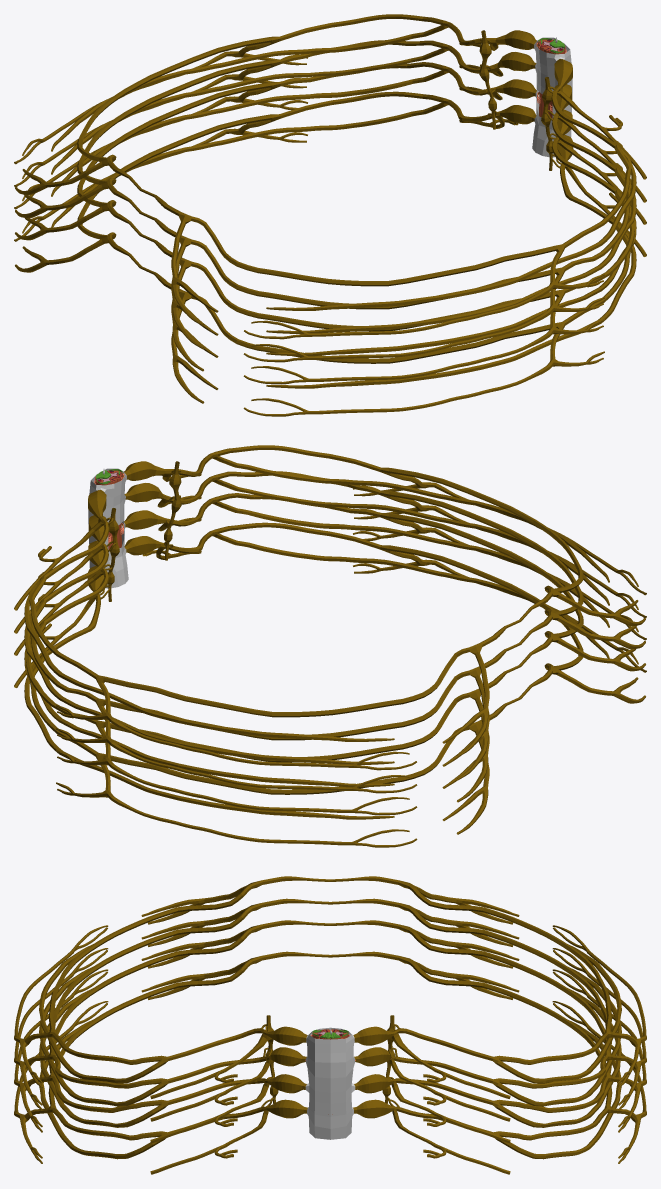
Rendered from Spinile_Cord_Low_Poly.obj.
3 renders of one model, top to bottom at view 1: azimuth 30°, elevation 25°; view 2: azimuth 150°, elevation 25°; view 3: azimuth 270°, elevation 25°, orthographic. The views are drawn at different scales.
Parts seen in each view (by area): view 1: Base.005_Low-PolyCA.Nervershell, Base.005_Low-PloyCA.Outershell, NurbsPath.012_Low-PolyCA.Nervershell; view 2: Base.005_Low-PolyCA.Nervershell, Base.005_Low-PloyCA.Outershell, NurbsPath.012_Low-PolyCA.Nervershell; view 3: Base.005_Low-PolyCA.Nervershell, Base.005_Low-PloyCA.Outershell, NurbsPath.012_Low-PolyCA.Nervershell.
Part boxes in pixels (x1,y1,x2,y2): Base.005_Low-PolyCA.Nervershell: (14, 14, 646, 416); Base.005_Low-PloyCA.Outershell: (532, 37, 572, 157); NurbsPath.012_Low-PolyCA.Nervershell: (479, 30, 552, 170); Base.005_Low-PolyCA.Nervershell: (14, 445, 646, 847); Base.005_Low-PloyCA.Outershell: (88, 468, 128, 588); NurbsPath.012_Low-PolyCA.Nervershell: (108, 461, 181, 601); Base.005_Low-PolyCA.Nervershell: (14, 876, 646, 1174); Base.005_Low-PloyCA.Outershell: (305, 1027, 355, 1139); NurbsPath.012_Low-PolyCA.Nervershell: (265, 1015, 395, 1103).
Size of the model in its own units: 2 by 0.777 by 2.42.
